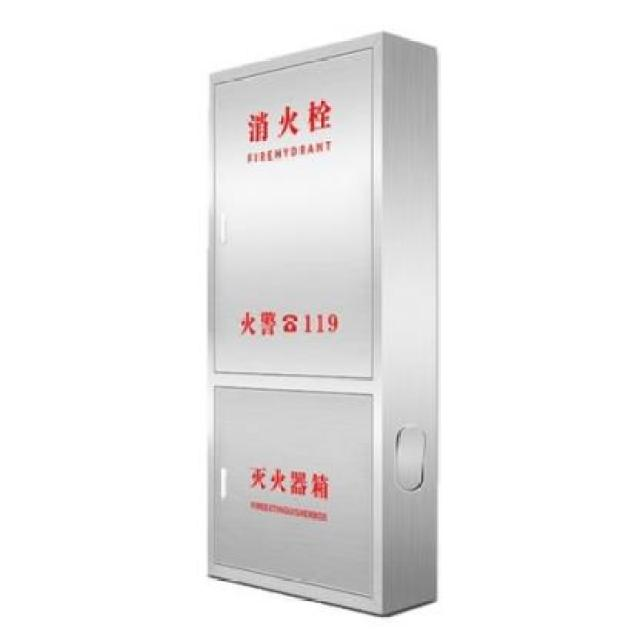firehydrant: (198, 24, 444, 624)
